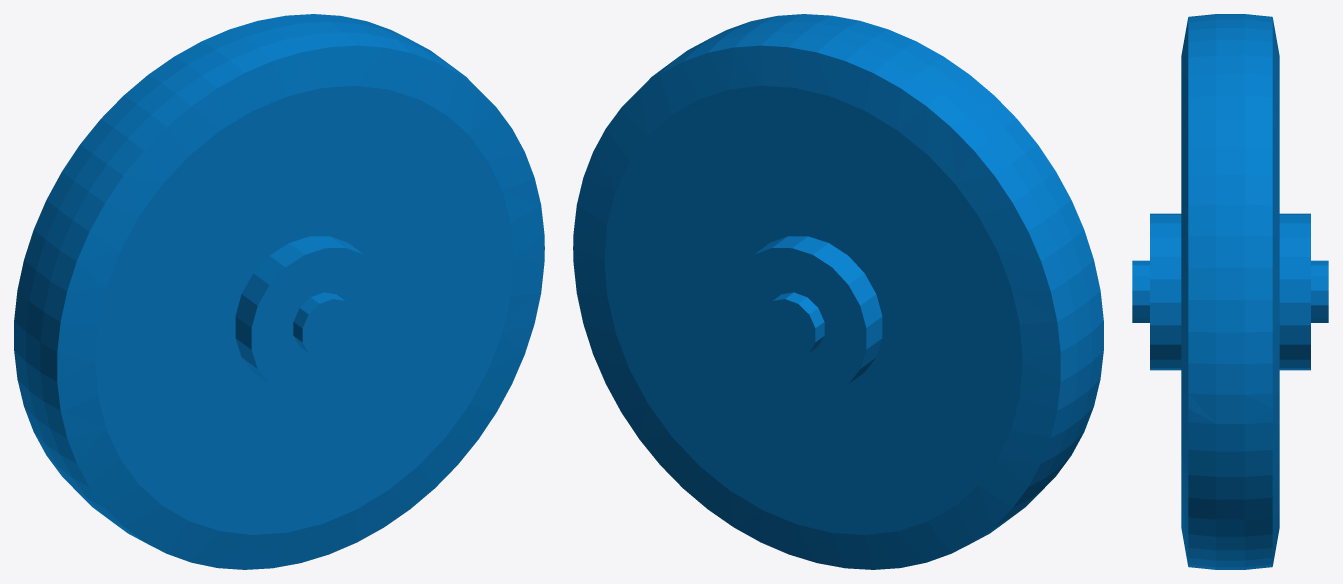
File: r_wheel_link.dae
3 renders of one model, left to right at view 1: azimuth 30°, elevation 25°; view 2: azimuth 150°, elevation 25°; view 3: azimuth 270°, elevation 25°, orthographic. The views are drawn at different scales.
Visible parts, largest first — view 1: r_wheel_link; view 2: r_wheel_link; view 3: r_wheel_link.
Part boxes in pixels (bbox=[...]): r_wheel_link: bbox=[14, 14, 544, 569]; r_wheel_link: bbox=[573, 14, 1103, 569]; r_wheel_link: bbox=[1132, 14, 1328, 569].
Size of the model in its own units: 0.1412 by 0.05 by 0.1415.
